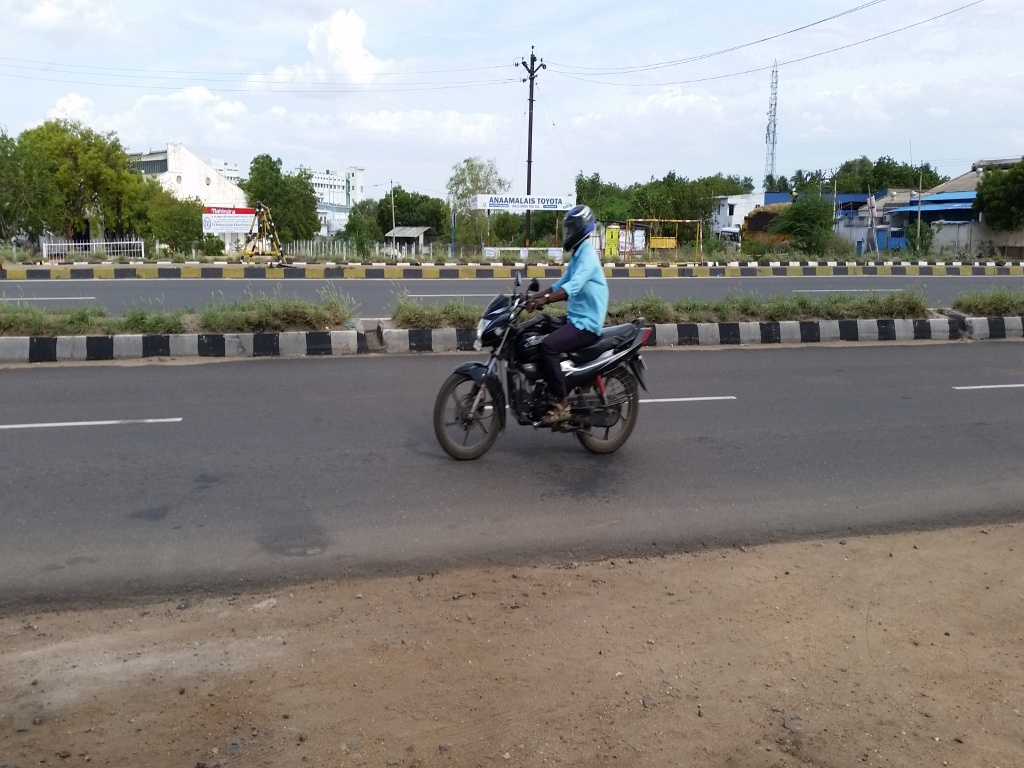biker: (417, 173, 670, 474)
helmet: (550, 190, 608, 270)
